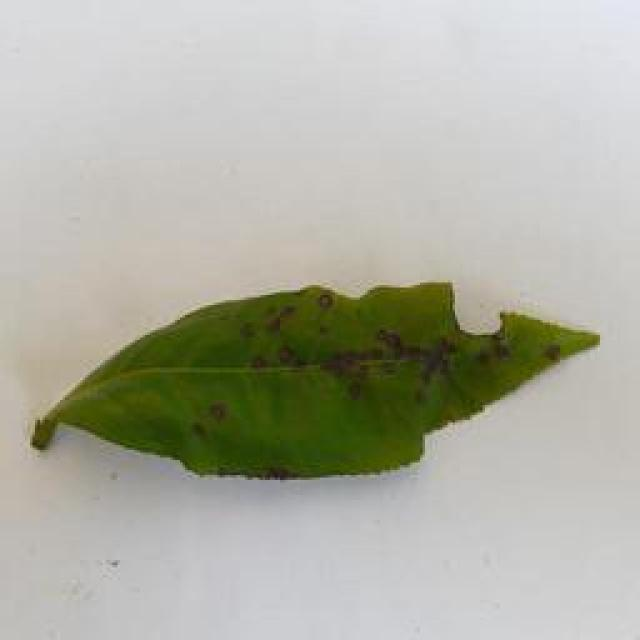Helopeltis: (22, 274, 620, 490)
